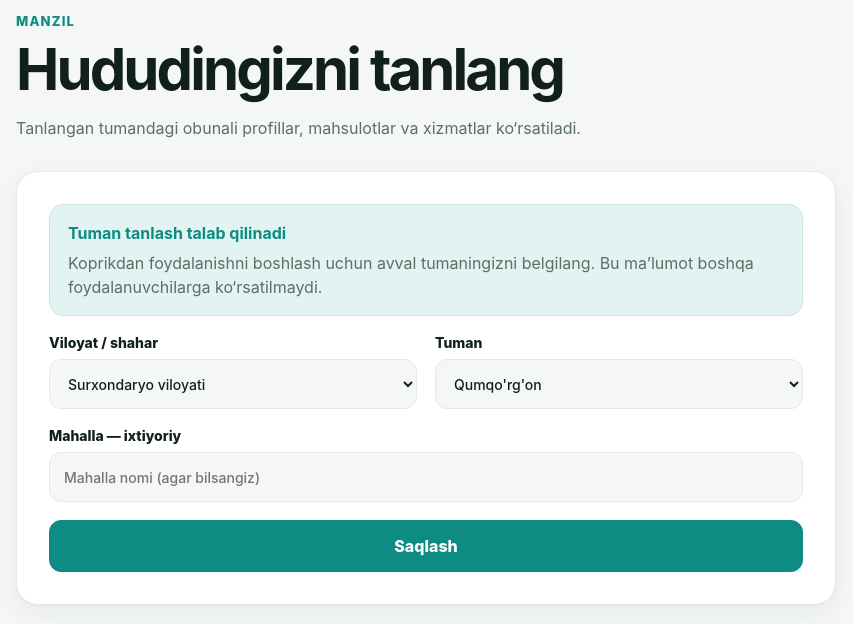
it: LocationScreen › resets an invalid district when the region changes
This screenshot has width=853, height=624.
Expected: the dropdown labelled "Tuman" shows "Qumqo'rg'on", [435,360,803,410]
Select "Samarqand viloyati" in the dropdown labelled "Viloyat / shahar": (233, 384) [49,360,417,410]
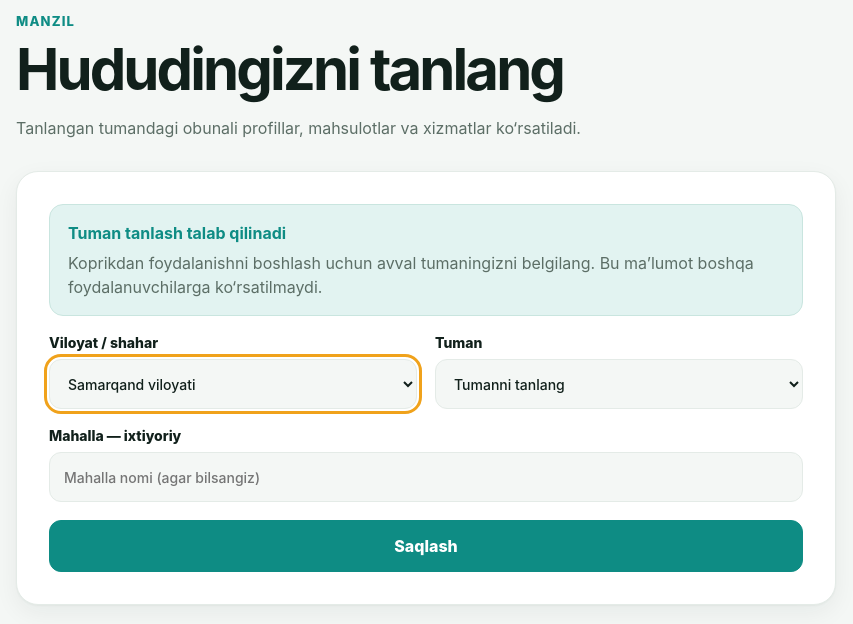
Expected: the dropdown labelled "Tuman" shows "Tumanni tanlang", [435,360,803,410]
